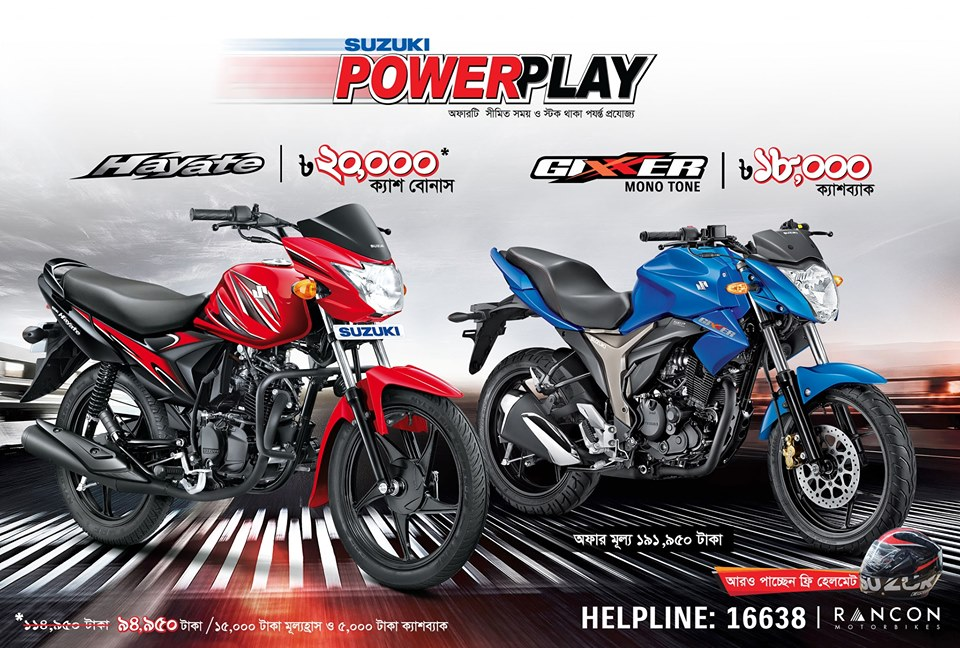bike: (20, 202, 487, 593), (467, 219, 915, 546)
